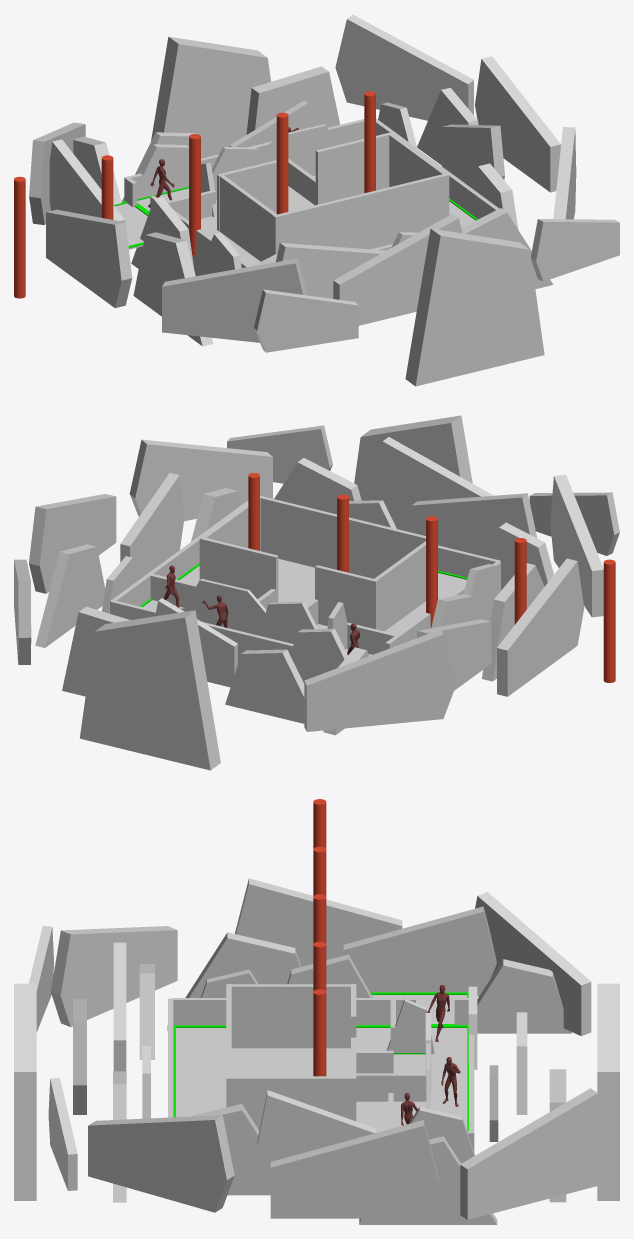
Rendered from PL_LBVR_SC05_v01.fbx.
3 views of the same model, one above another, from view 1: azimuth 30°, elevation 25°; view 2: azimuth 150°, elevation 25°; view 3: azimuth 270°, elevation 25° (orthographic). The views are drawn at different scales.
Parts seen in each view (by area): view 1: Cube.056, Cube.072, Cube.071, Cube.069, Cube.067, DEIXAR EM TODOS OS LEVELS P/ REF, Cube.066, Cube.054, Cube.060, Cube.074, Cube.073, Cube.046 (+19 smaller); view 2: Cube.056, Cube.071, Cube.068, Cube.061, Cube.066, DEIXAR EM TODOS OS LEVELS P/ REF, Cube.054, Cube.057, Cube.060, Cube.072, Cube.044, Cube.052 (+21 smaller); view 3: Cube.056, Plane.016, Cube.054, Cube.069, Cube.061, Cube.063, Cube.067, Cube.066, Cube.068, Cube.065, Cube.072, Cube.051 (+21 smaller).
Boxes of the visible parts, <box> form: Cube.056: <box>124,118,511,276</box>; Cube.072: <box>405,228,544,386</box>; Cube.071: <box>151,36,270,156</box>; Cube.069: <box>335,14,473,120</box>; Cube.067: <box>162,258,307,342</box>; DEIXAR EM TODOS OS LEVELS P/ REF: <box>14,91,375,298</box>; Cube.066: <box>46,209,132,308</box>; Cube.054: <box>475,56,560,192</box>; Cube.060: <box>333,213,462,325</box>; Cube.074: <box>254,289,358,352</box>; Cube.073: <box>531,219,619,281</box>; Cube.046: <box>246,66,339,134</box>; Cube.056: <box>110,495,500,687</box>; Cube.071: <box>79,610,220,770</box>; Cube.068: <box>304,629,456,731</box>; Cube.061: <box>129,439,272,521</box>; Cube.066: <box>497,558,584,696</box>; DEIXAR EM TODOS OS LEVELS P/ REF: <box>248,473,615,682</box>; Cube.054: <box>29,494,116,593</box>; Cube.057: <box>411,493,536,555</box>; Cube.060: <box>371,437,493,532</box>; Cube.072: <box>354,415,472,500</box>; Cube.044: <box>225,649,304,723</box>; Cube.052: <box>35,544,105,647</box>; Cube.056: <box>168,984,474,1195</box>; Plane.016: <box>176,995,467,1131</box>; Cube.054: <box>270,1120,438,1218</box>; Cube.069: <box>460,1088,609,1219</box>; Cube.061: <box>88,1115,234,1212</box>; Cube.063: <box>343,906,496,996</box>; Cube.067: <box>50,926,177,1027</box>; Cube.066: <box>235,878,402,966</box>; Cube.068: <box>475,892,591,1036</box>; Cube.065: <box>477,959,571,1033</box>; Cube.072: <box>14,983,36,1200</box>; Cube.051: <box>257,1090,375,1179</box>.
Size of the model in its own units: 2103 by 649 by 1886.
